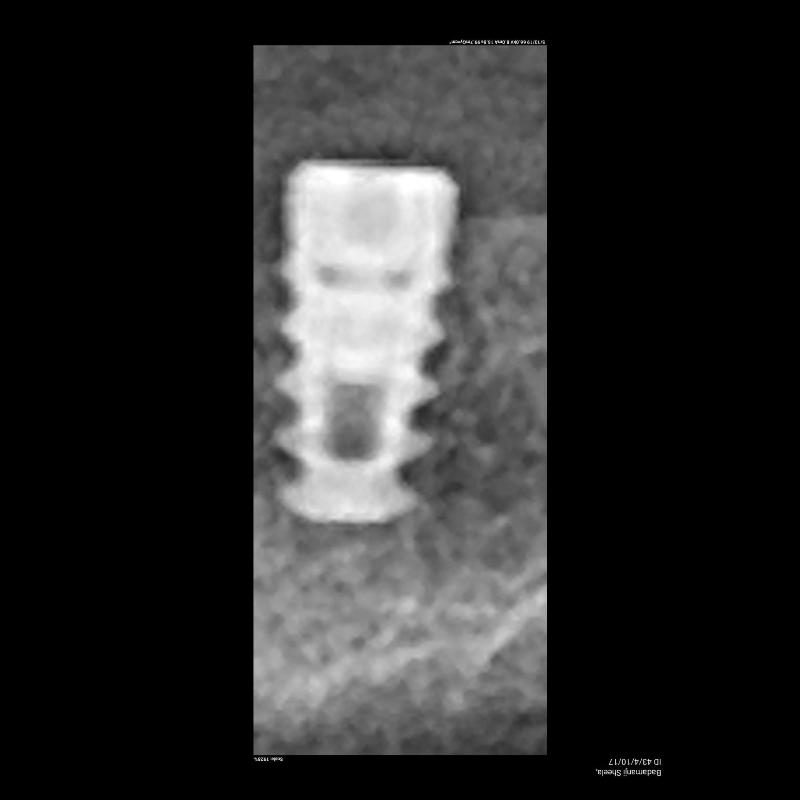NORIS: (266, 154, 470, 532)
